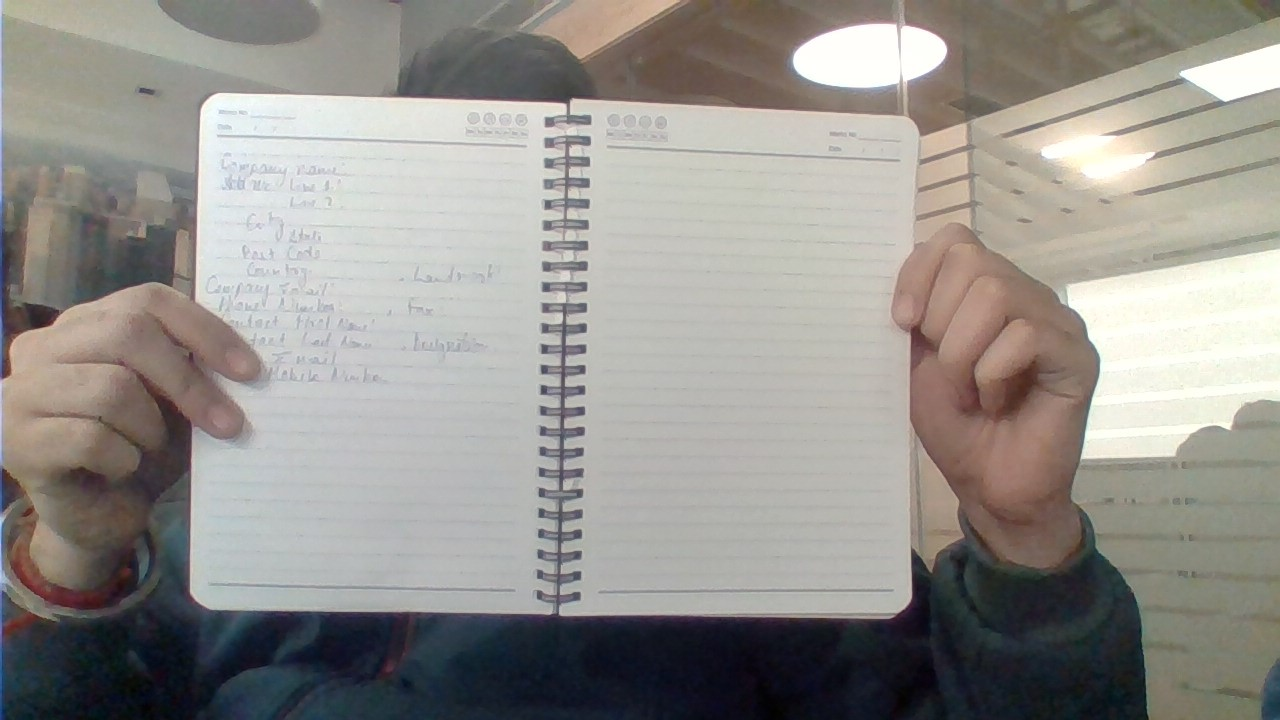notebook: (192, 90, 574, 636), (567, 94, 921, 625)
